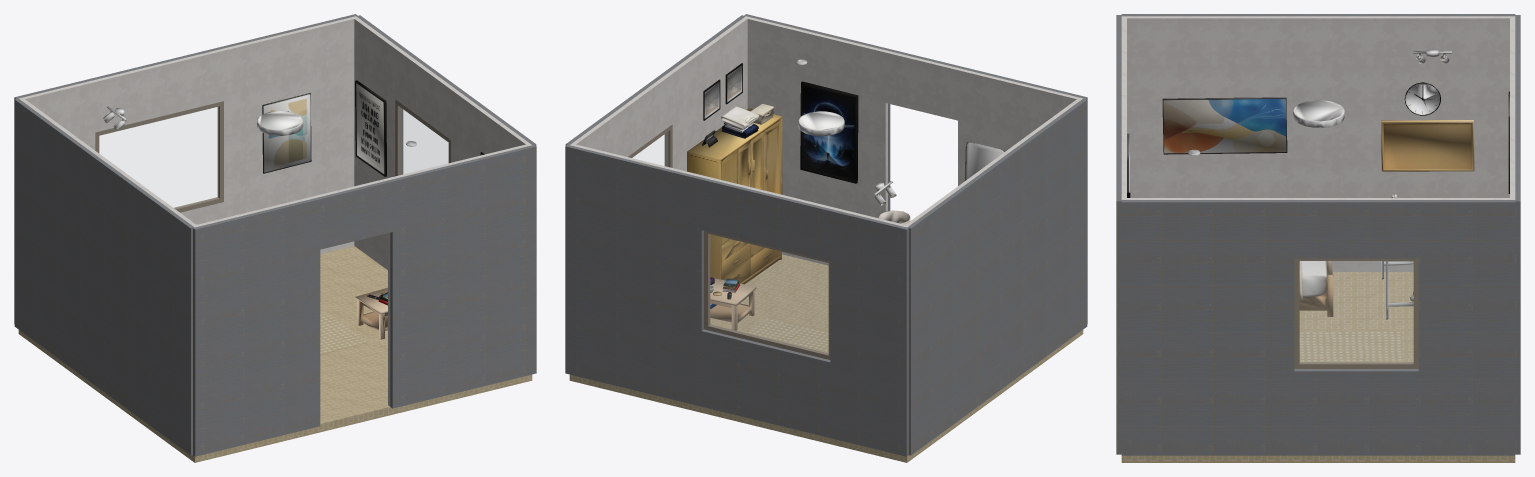
File: scene_named.glb
3 renders of one model, left to right at view 1: azimuth 30°, elevation 25°; view 2: azimuth 150°, elevation 25°; view 3: azimuth 270°, elevation 25°, orthographic. The views are drawn at different scales.
Parts seen in each view (by area): view 1: south_wall_exterior_bedroom/south_wall_exterior_bedroom/geom, west_wall_exterior_bedroom/west_wall_exterior_bedroom/geomet, north_wall_bedroom/north_wall_bedroom/geometry_0, floor_bedroom, east_wall_bedroom/east_wall_bedroom/geometry_0, window_1_bedroom/window_1_bedroom/glass, art_print_2, poster_0, window_2_bedroom/window_2_bedroom/glass, window_1_bedroom/window_1_bedroom/frame, south_wall_bedroom/south_wall_bedroom/geometry_0, north_wall_exterior_bedroom/north_wall_exterior_bedroom/geom (+6 smaller); view 2: north_wall_exterior_bedroom/north_wall_exterior_bedroom/geom, west_wall_exterior_bedroom/west_wall_exterior_bedroom/geomet, south_wall_bedroom/south_wall_bedroom/geometry_0, window_1_bedroom/window_1_bedroom/glass, east_wall_bedroom/east_wall_bedroom/geometry_0, floor_bedroom, wardrobe_0, movie_poster_0, window_1_bedroom/window_1_bedroom/frame, rug_0, south_wall_exterior_bedroom/south_wall_exterior_bedroom/geom, coffee_table_0 (+9 smaller); view 3: east_wall_exterior_bedroom/east_wall_exterior_bedroom/geomet, west_wall_bedroom/west_wall_bedroom/geometry_0, window_2_bedroom/window_2_bedroom/glass, floor_bedroom, art_print_0, pinboard_0, rug_0, north_wall_exterior_bedroom/north_wall_exterior_bedroom/geom, south_wall_exterior_bedroom/south_wall_exterior_bedroom/geom, window_2_bedroom/window_2_bedroom/frame, bed_0, flush_mount_0 (+6 smaller).
Part boxes in pixels (<box>): south_wall_exterior_bedroom/south_wall_exterior_bedroom/geom: <box>193,144,536,456</box>; west_wall_exterior_bedroom/west_wall_exterior_bedroom/geomet: <box>14,98,194,455</box>; north_wall_bedroom/north_wall_bedroom/geometry_0: <box>23,17,354,253</box>; floor_bedroom: <box>18,246,532,462</box>; east_wall_bedroom/east_wall_bedroom/geometry_0: <box>352,16,531,269</box>; window_1_bedroom/window_1_bedroom/glass: <box>99,107,218,207</box>; art_print_2: <box>262,93,311,173</box>; poster_0: <box>355,80,386,176</box>; window_2_bedroom/window_2_bedroom/glass: <box>400,107,448,174</box>; window_1_bedroom/window_1_bedroom/frame: <box>95,101,223,212</box>; south_wall_bedroom/south_wall_bedroom/geometry_0: <box>197,144,528,406</box>; north_wall_exterior_bedroom/north_wall_exterior_bedroom/geom: <box>14,14,357,323</box>; north_wall_exterior_bedroom/north_wall_exterior_bedroom/geom: <box>565,144,908,456</box>; west_wall_exterior_bedroom/west_wall_exterior_bedroom/geomet: <box>907,98,1087,455</box>; south_wall_bedroom/south_wall_bedroom/geometry_0: <box>747,17,1078,265</box>; window_1_bedroom/window_1_bedroom/glass: <box>709,234,828,353</box>; east_wall_bedroom/east_wall_bedroom/geometry_0: <box>570,16,749,171</box>; floor_bedroom: <box>569,254,1083,462</box>; wardrobe_0: <box>687,108,782,284</box>; movie_poster_0: <box>800,81,858,183</box>; window_1_bedroom/window_1_bedroom/frame: <box>704,231,830,359</box>; rug_0: <box>748,318,828,353</box>; south_wall_exterior_bedroom/south_wall_exterior_bedroom/geom: <box>744,14,1087,323</box>; coffee_table_0: <box>710,278,756,330</box>; east_wall_exterior_bedroom/east_wall_exterior_bedroom/geomet: <box>1121,200,1515,455</box>; west_wall_bedroom/west_wall_bedroom/geometry_0: <box>1121,16,1515,271</box>; window_2_bedroom/window_2_bedroom/glass: <box>1300,261,1413,362</box>; floor_bedroom: <box>1121,272,1515,462</box>; art_print_0: <box>1162,97,1287,154</box>; pinboard_0: <box>1381,120,1474,171</box>; rug_0: <box>1299,331,1402,362</box>; north_wall_exterior_bedroom/north_wall_exterior_bedroom/geom: <box>1515,15,1520,454</box>; south_wall_exterior_bedroom/south_wall_exterior_bedroom/geom: <box>1116,15,1121,454</box>; window_2_bedroom/window_2_bedroom/frame: <box>1294,258,1418,368</box>; bed_0: <box>1299,261,1333,316</box>; flush_mount_0: <box>1293,100,1344,127</box>.
Bounding box in the file's own units: 4.3 × 2.8 × 3.9.
Materials: 51 (47 with a texture image).
